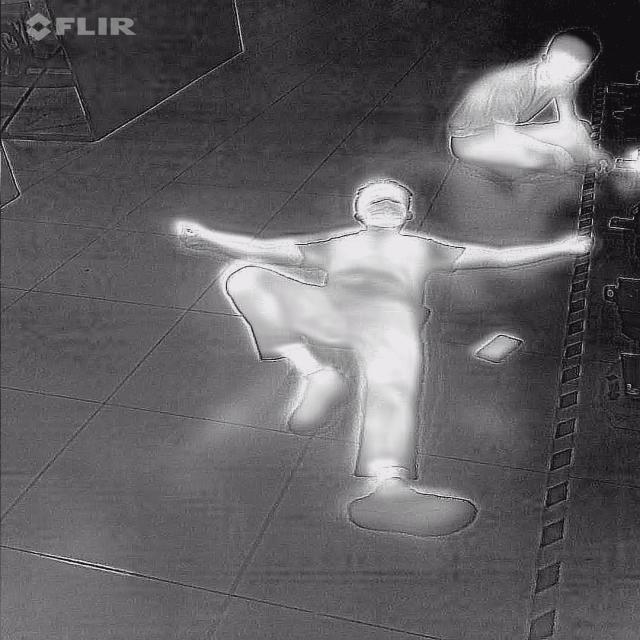Victim: (166, 173, 606, 539), (438, 19, 621, 182)
